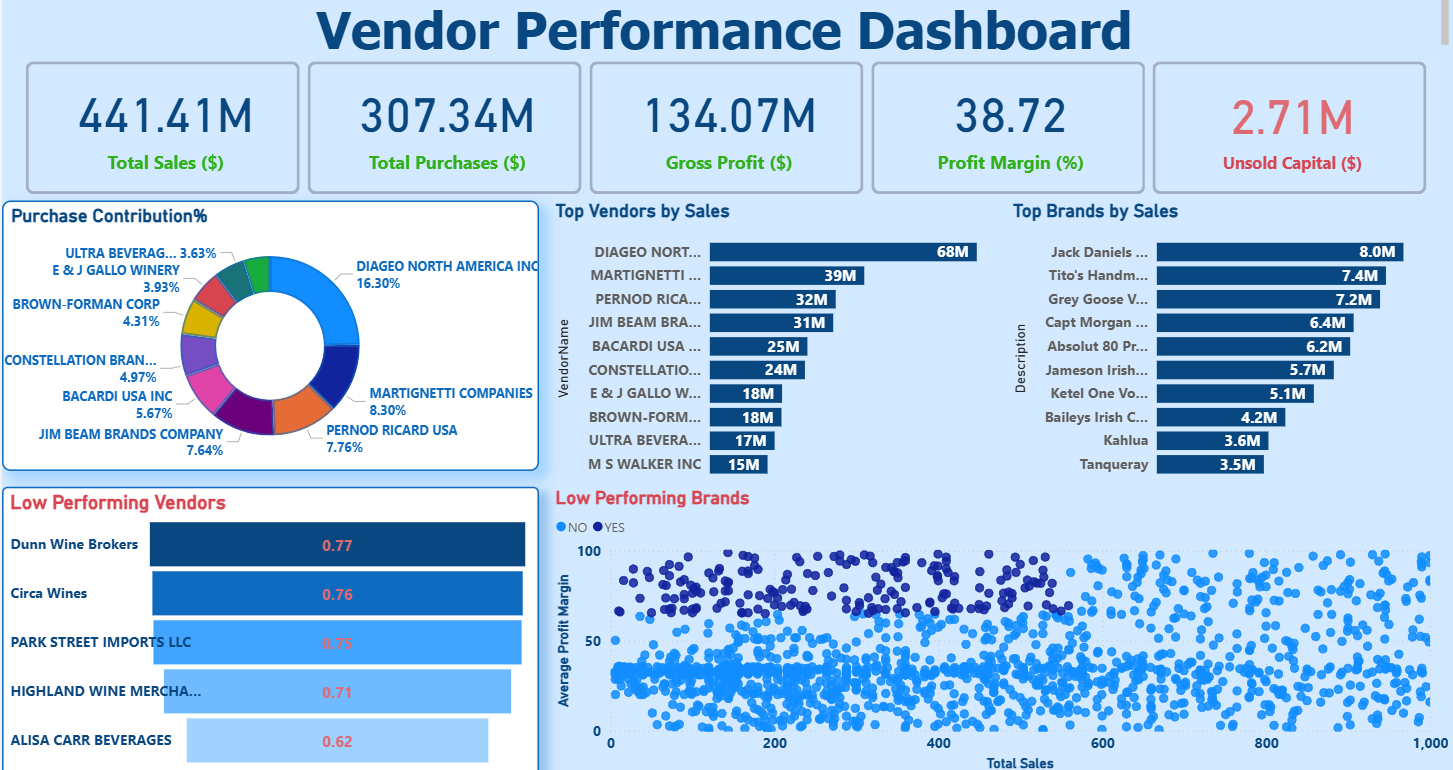

The dashboard page shown, as its layout file describes it:
{"tool":"powerbi","page":{"name":"Page 1","canvas":[1520,820],"ordinal":0},"visuals":[{"type":"cardVisual","title":"Sa","fields":{"Data":["Sum(Vendor_sales_summary.TotalSalesDollars)","Sum(Vendor_sales_summary.TotalPurchaseDollars)","Sum(Vendor_sales_summary.GrossProfit)","Avg(Vendor_sales_summary.ProfitMArgin)","Sum(Vendor_sales_summary.UnsoldCapital)"]},"box":[0,66.8,1520.3,149.9],"z":0},{"type":"textbox","box":[0,0,1520.3,66.8],"z":1000},{"type":"donutChart","title":"Purchase Contribution%","fields":{"Category":["PurchaseContribution.VendorName"],"Y":["Sum(PurchaseContribution.PurchaseContribiution%)"]},"box":[0,216.7,562.2,283.5],"z":2000},{"type":"barChart","title":"Top Vendors by Sales","fields":{"Category":["Vendor_sales_summary.VendorName"],"Y":["Sum(Vendor_sales_summary.TotalSalesDollars)"]},"box":[575.2,216.7,506.8,301.5],"z":3000},{"type":"barChart","title":"Top Brands by Sales","fields":{"Y":["Sum(Vendor_sales_summary.TotalSalesDollars)"],"Category":["Vendor_sales_summary.Description"]},"box":[1054.3,216.7,466,301.5],"z":4000},{"type":"funnel","title":"Low Performing Vendors","fields":{"Category":["LowStockTurnover.VendorName"],"Y":["Sum(LowStockTurnover.AvgStockTurnover)"]},"box":[0,516.6,562.2,303.1],"z":5000},{"type":"scatterChart","title":"Low Performing Brands","fields":{"Category":["BrandPerformance.Description"],"X":["Sum(BrandPerformance.TotalSales)"],"Y":["Sum(BrandPerformance.AvgProfitMargin)"],"Series":["BrandPerformance.TargetBrand"]},"box":[575.2,516.6,945.1,303.1],"z":6000}]}

Visuals, with their boxes in screenshot pixels (x1, y1, x2, y2), scaled from the page's 1520x820 canvas onto the 1453x770 screenshot:
"Sa" cardVisual: 0, 63, 1452, 203
textbox: 0, 0, 1452, 63
"Purchase Contribution%" donutChart: 0, 203, 537, 470
"Top Vendors by Sales" barChart: 550, 203, 1034, 487
"Top Brands by Sales" barChart: 1008, 203, 1452, 487
"Low Performing Vendors" funnel: 0, 485, 537, 769
"Low Performing Brands" scatterChart: 550, 485, 1452, 769
